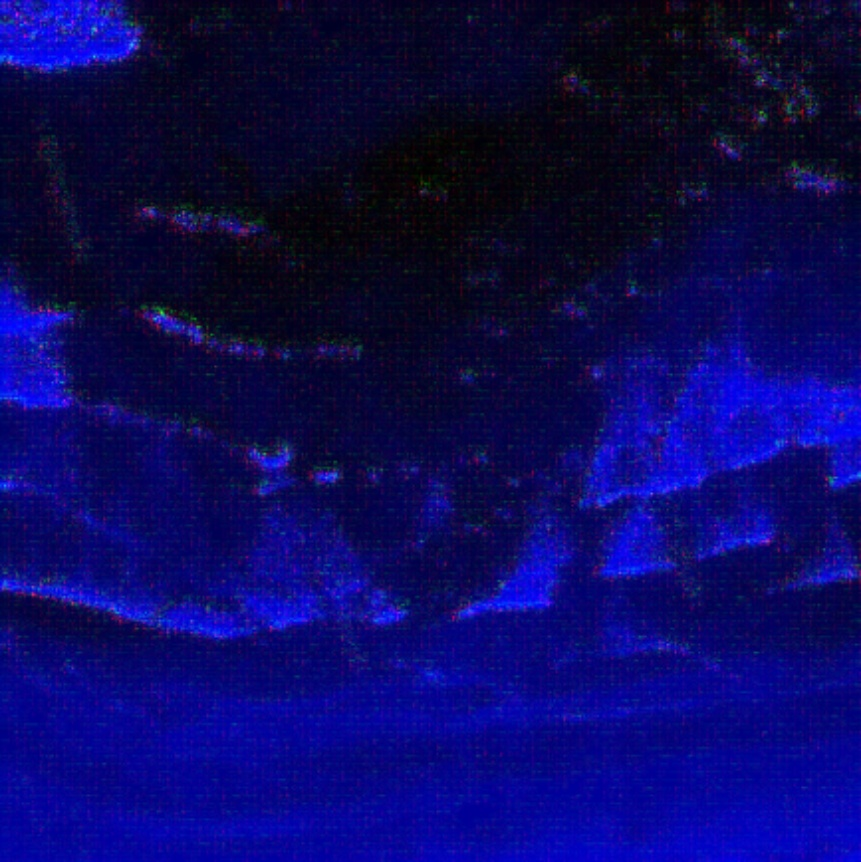rip_current: (291, 202, 591, 656)
